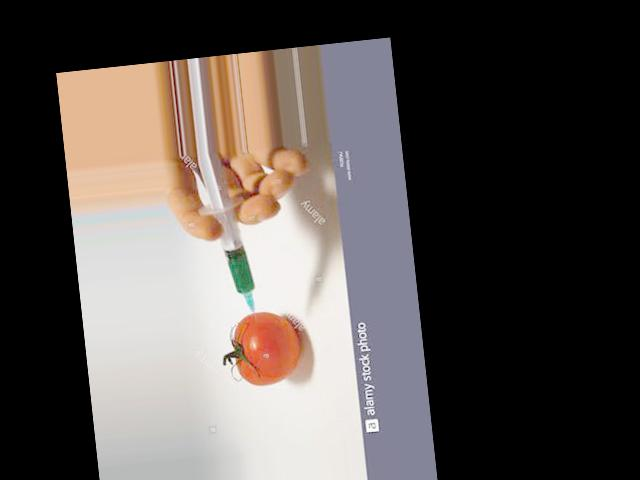tomato: (230, 308, 303, 386)
